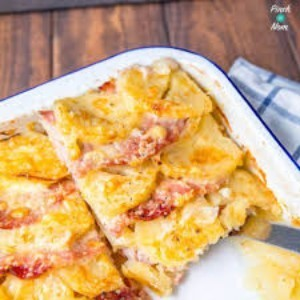cheese_brain food: (71, 116, 199, 263)
